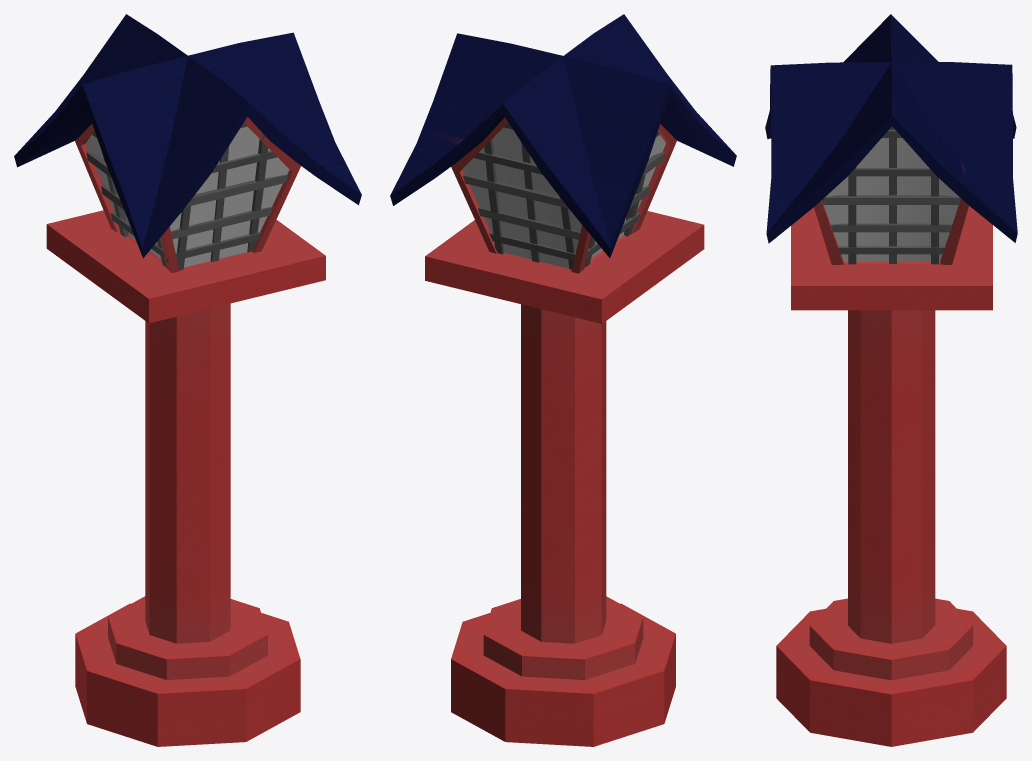
The model's file is Rou.fbx.
3 views of the same model, side by side, from view 1: azimuth 30°, elevation 25°; view 2: azimuth 150°, elevation 25°; view 3: azimuth 270°, elevation 25° (orthographic).
Parts seen in each view (by area): view 1: pCube3, pCylinder4; view 2: pCube3, pCylinder4; view 3: pCube3, pCylinder4.
Boxes of the visible parts, bbox=[...] form: pCube3: bbox=[14, 14, 361, 323]; pCylinder4: bbox=[75, 303, 300, 746]; pCube3: bbox=[390, 14, 736, 323]; pCylinder4: bbox=[451, 304, 675, 746]; pCube3: bbox=[765, 14, 1017, 310]; pCylinder4: bbox=[776, 310, 1006, 746].
Bounding box in the file's own units: 87.74 × 244 × 87.74.
